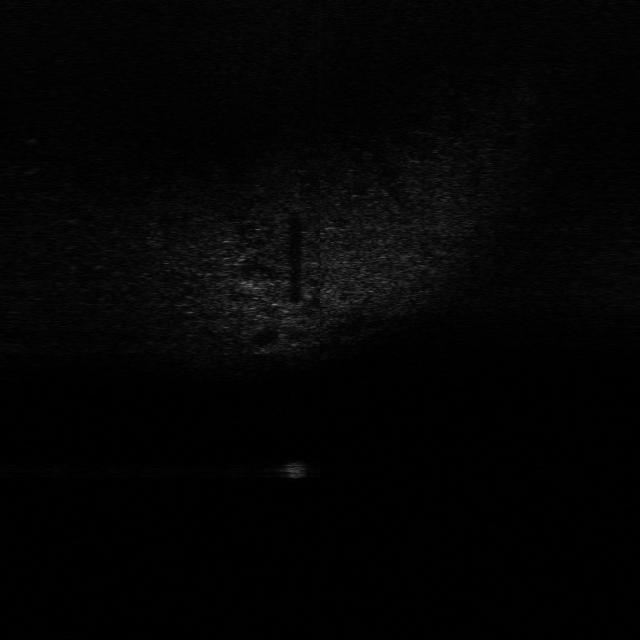cylinder: (277, 458, 317, 483)
